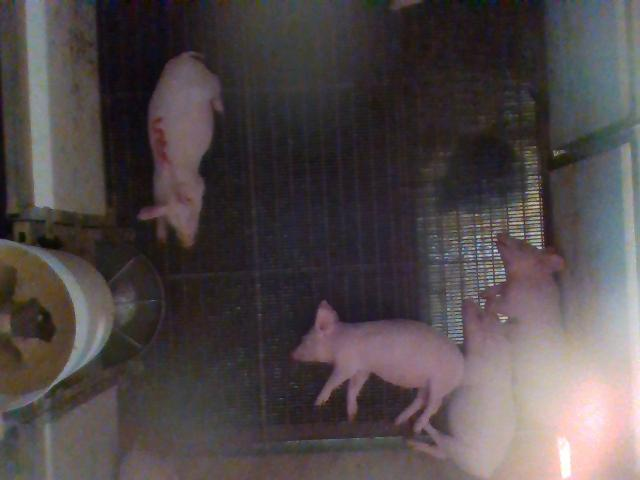pig-3: (138, 51, 224, 246)
